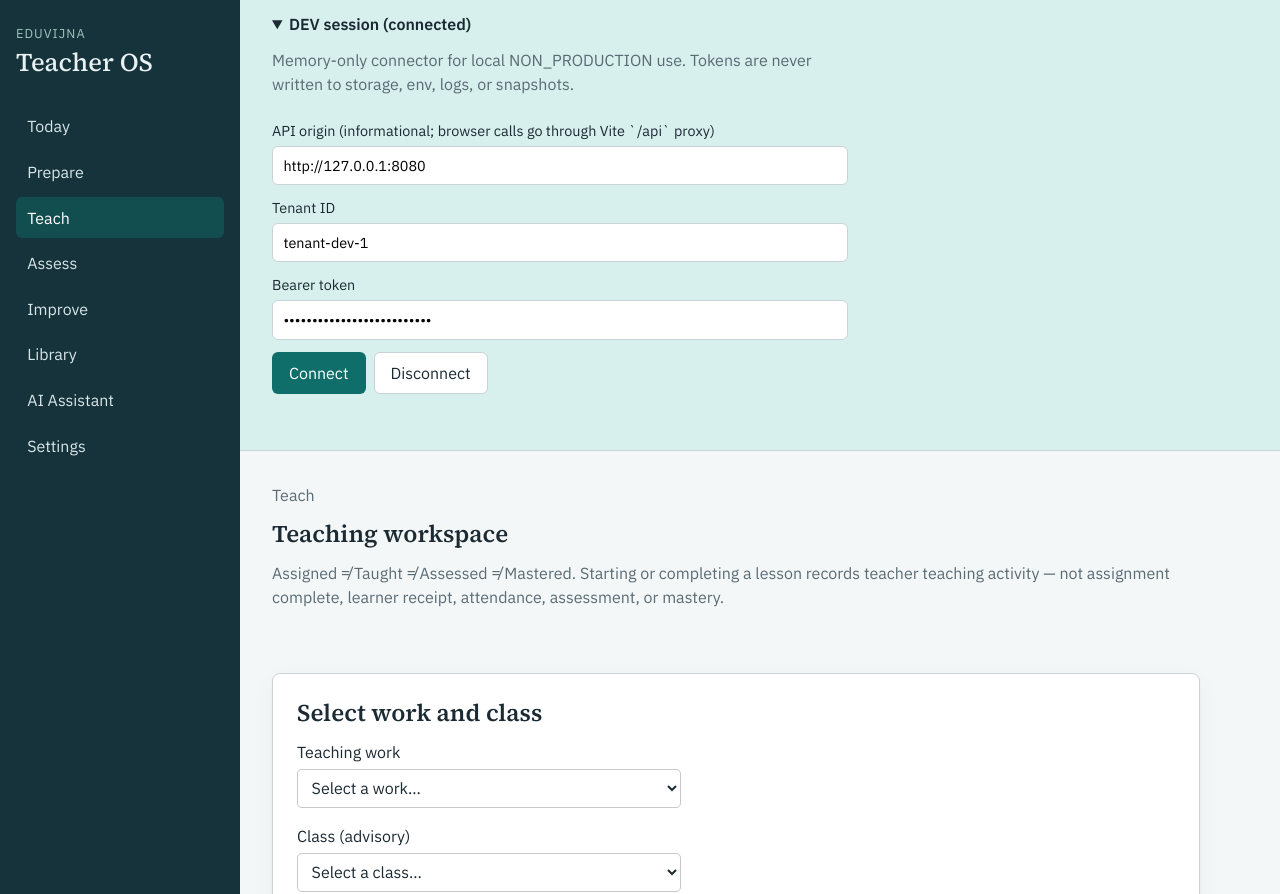
TOS-DEV07-I03 Teach workspace › loads work and class selectors then queries teach context with both params
This screenshot has width=1280, height=894.
Check: the heading "Teaching workspace" is shown, box [272,517,508,550]
Select "Explain why leaves look green · Science · Photosynthesis · 2026-09-06 · Grade 5B" in the dropdown labelled "Teaching work" at [489, 788], box [297,769,681,808]
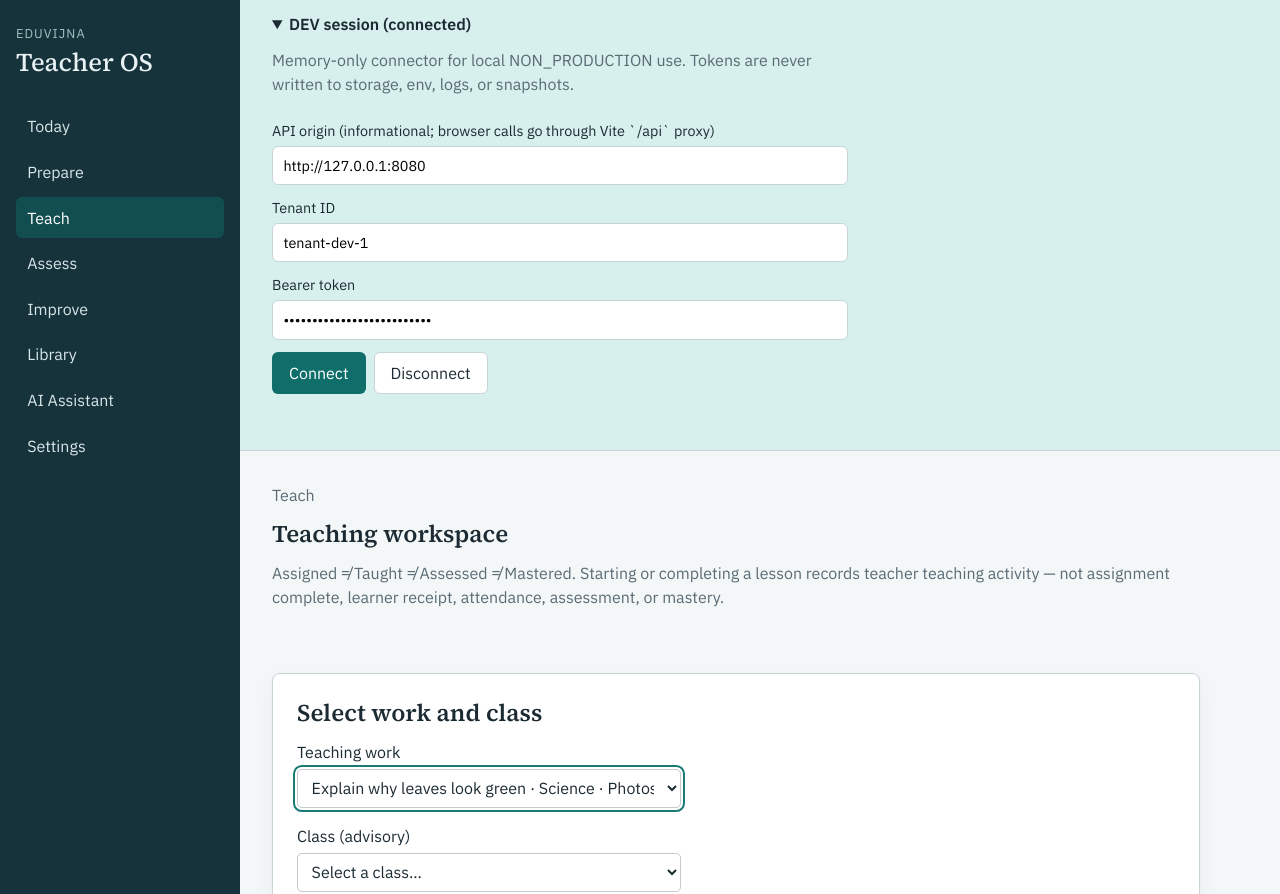
Select "Grade 5A" in the dropdown labelled "Class" at [489, 872], box [297,853,681,892]
(page scrolled)
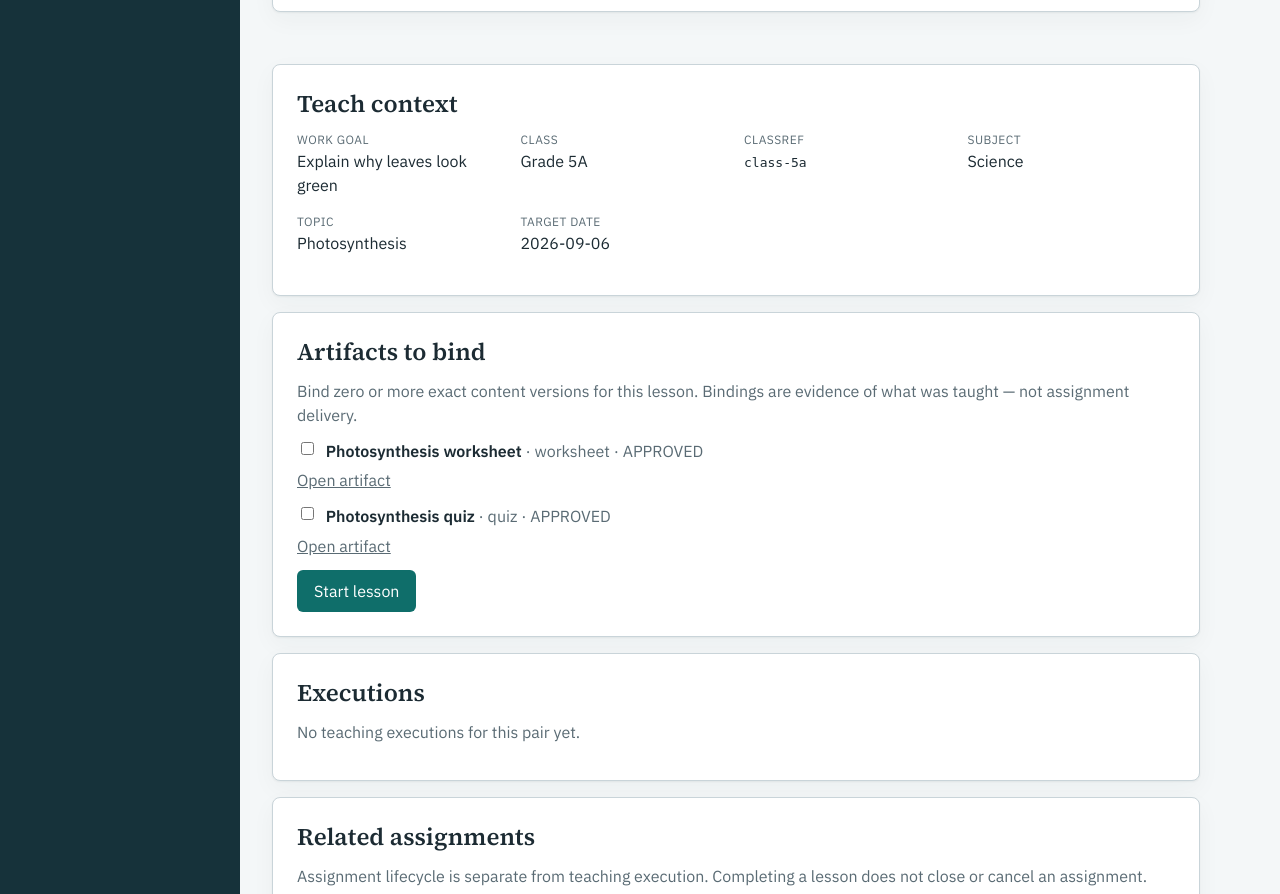
Check: the heading "Teach context" is shown, box [297,86,458,120]
Check: the text "Photosynthesis worksheet" is shown, box [326,440,522,460]
